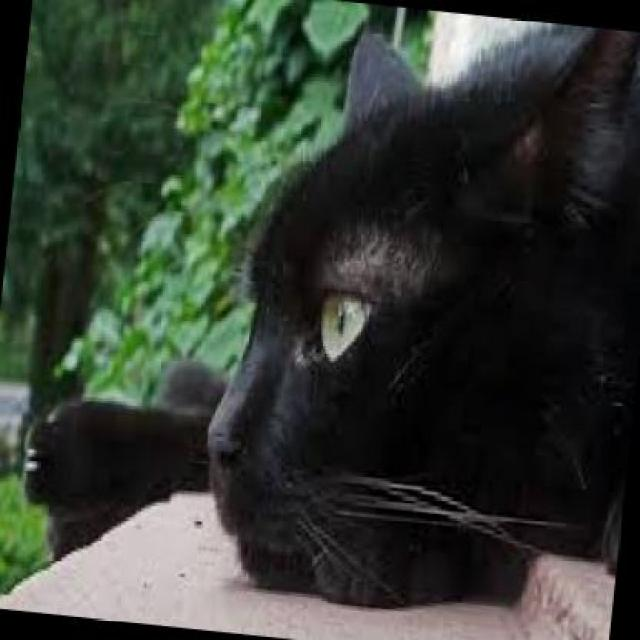animals: (190, 5, 638, 626)
